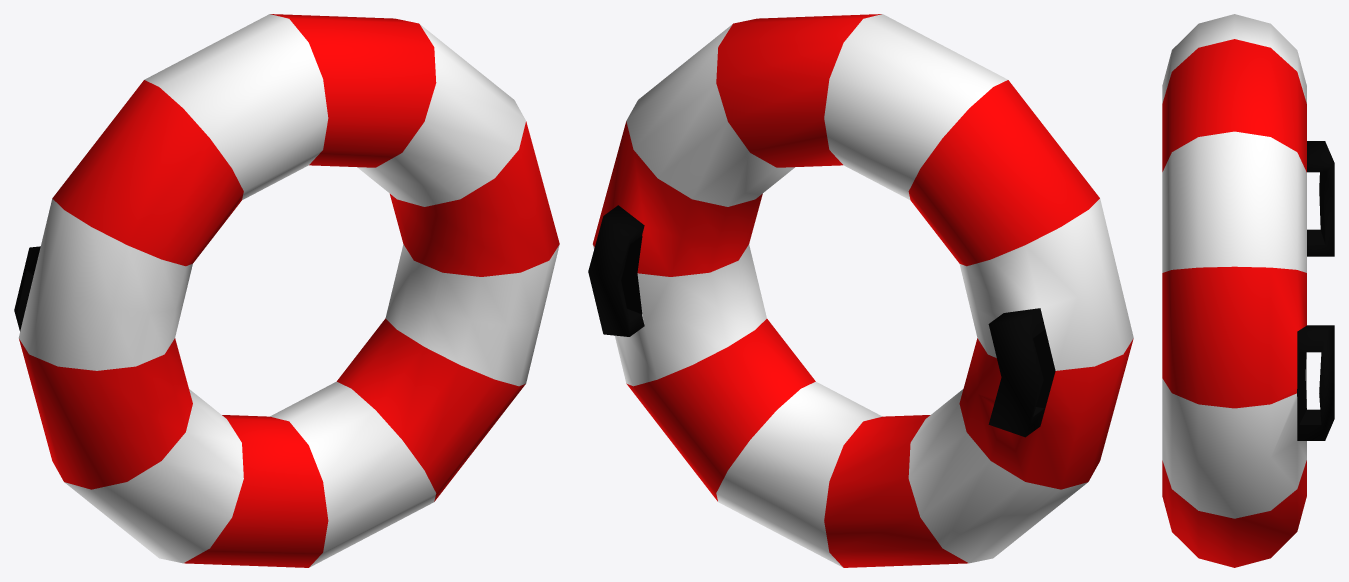
File: item-swim-tube.glb
The picture shows the model from 3 angles, left to right: view 1: azimuth 30°, elevation 25°; view 2: azimuth 150°, elevation 25°; view 3: azimuth 270°, elevation 25°; orthographic projection. The views are drawn at different scales.
Bounding box in the file's own units: 1.92 × 1.92 × 0.5958.
